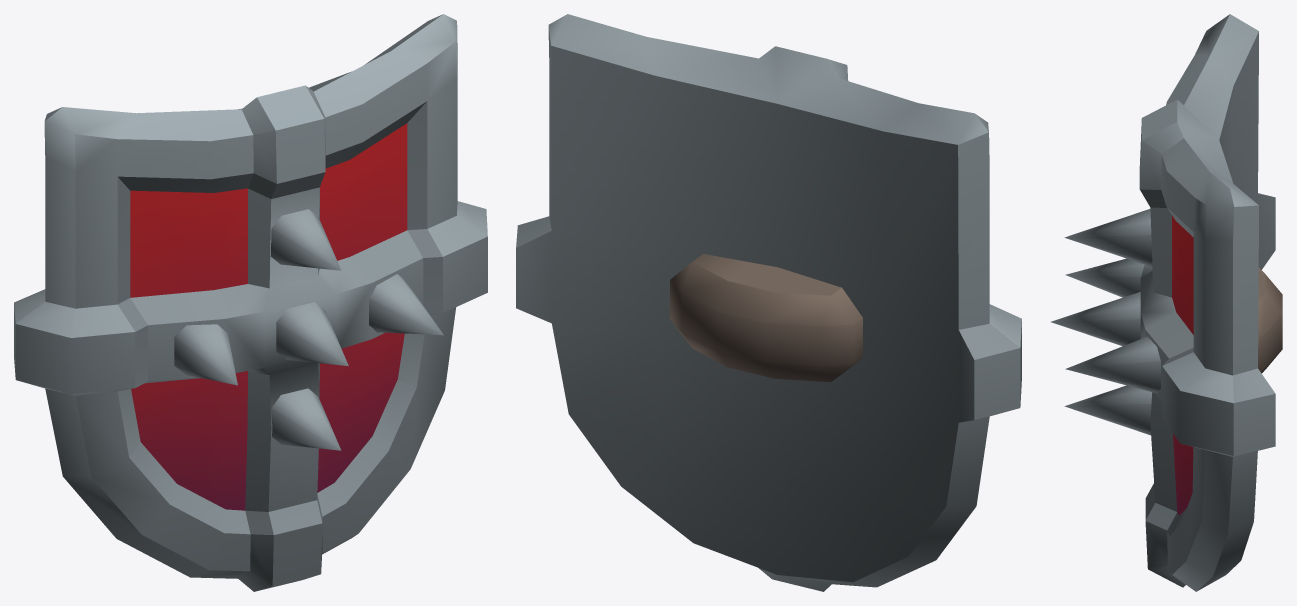
File: shield_spikes_color.glb
3 views of the same model, side by side, from view 1: azimuth 30°, elevation 25°; view 2: azimuth 150°, elevation 25°; view 3: azimuth 270°, elevation 25° (orthographic). The views are drawn at different scales.
Visible parts, largest first — view 1: shield_spikes_color; view 2: shield_spikes_color; view 3: shield_spikes_color.
Part boxes in pixels (<box>): shield_spikes_color: <box>14,14,487,591</box>; shield_spikes_color: <box>516,14,1021,591</box>; shield_spikes_color: <box>1051,14,1282,591</box>.
Bounding box in the file's own units: 1.01 × 1.04 × 0.4598.
1 material, 1 textured.
